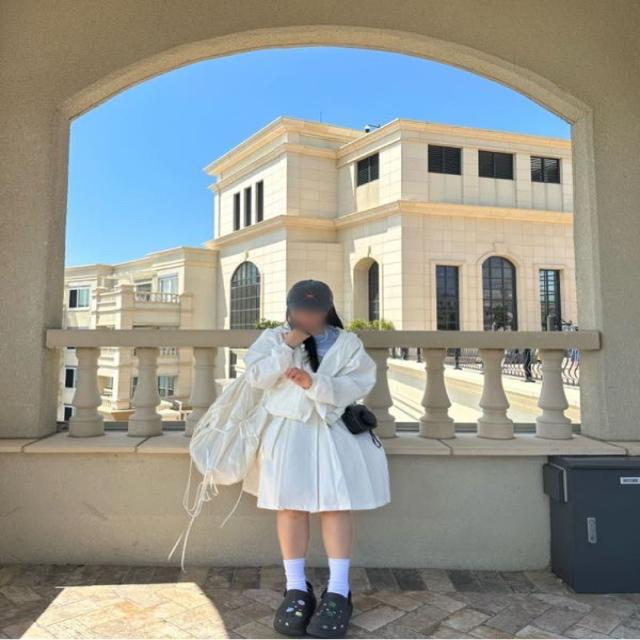skirt: (243, 404, 393, 511)
zipup: (244, 320, 377, 425)
